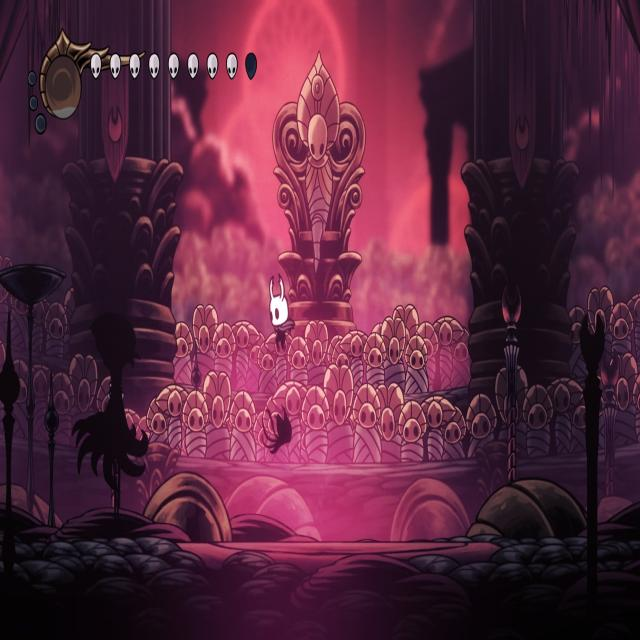Grimm: (70, 298, 156, 538)
Player: (267, 270, 296, 355)
